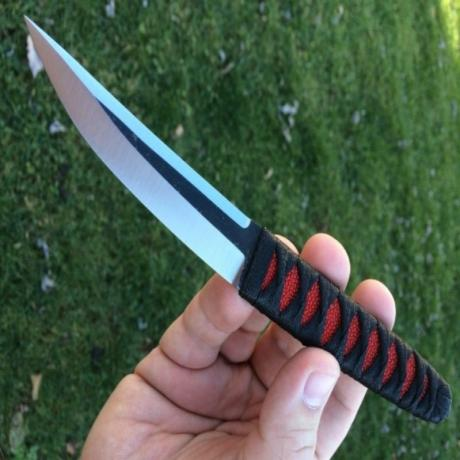1: (79, 224, 398, 460)
weapon: (21, 4, 314, 288)
